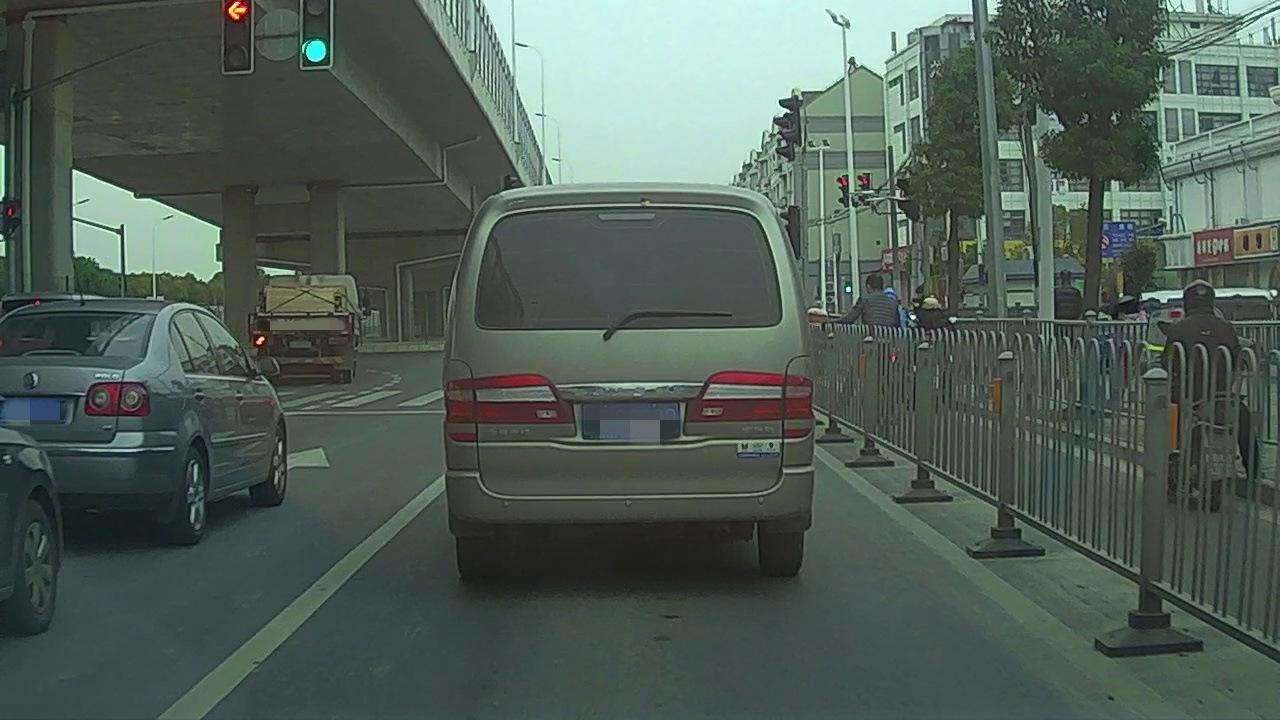traffic_light: (300, 3, 332, 67), (225, 3, 251, 71)
